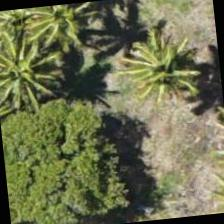Kelapa_Sawit: (120, 20, 219, 119), (0, 26, 68, 124), (11, 0, 106, 64)
